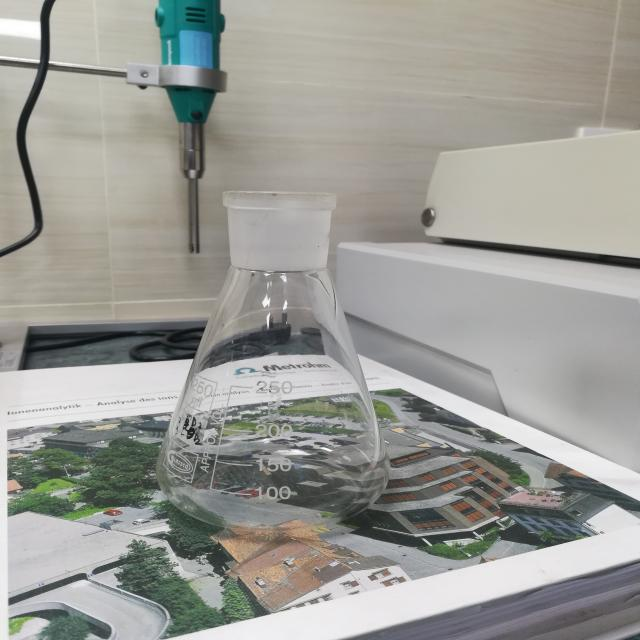Conical_Flask: (119, 154, 468, 554)
